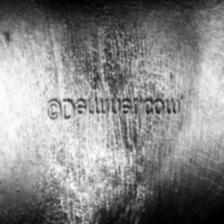Non-Cancerous Skin Condition: (20, 139, 183, 224), (53, 33, 162, 102), (199, 136, 224, 212)
